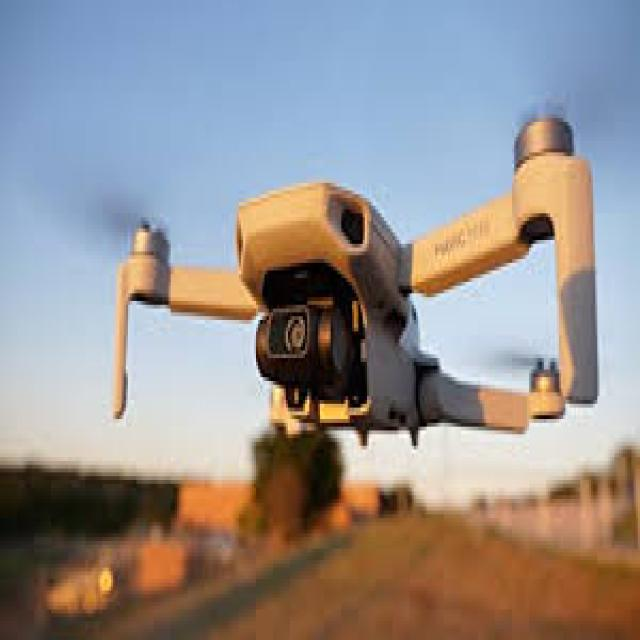drone: (49, 80, 640, 469)
